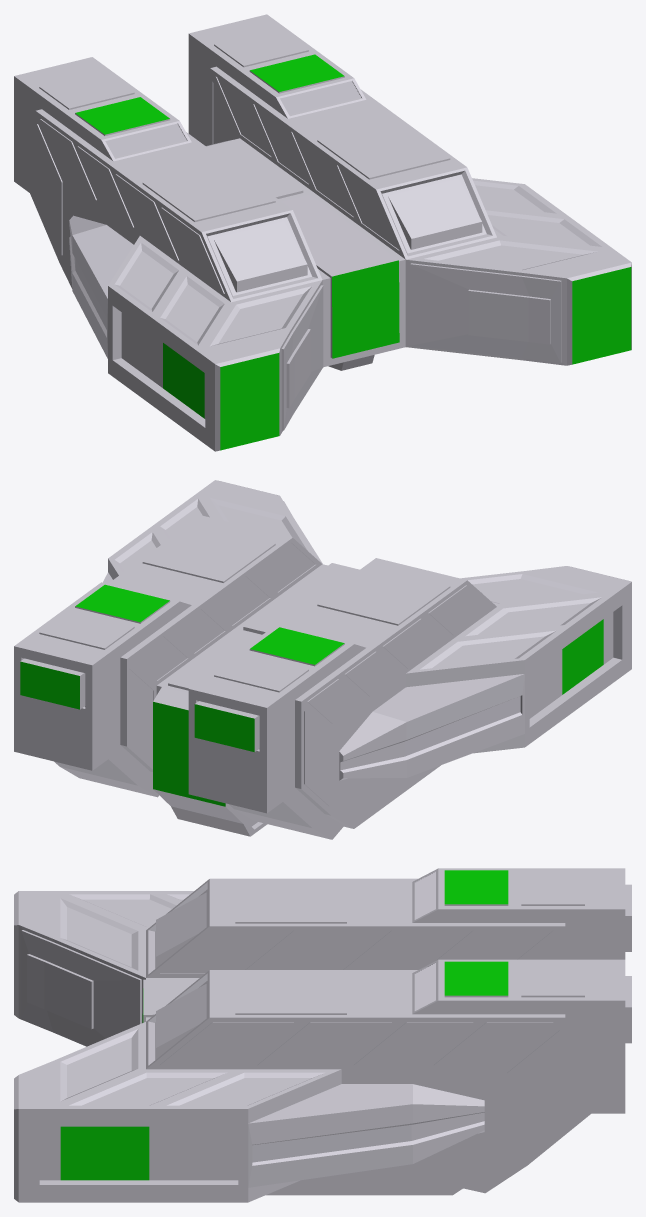
File: hull.v.fbx
3 views of the same model, one above another, from view 1: azimuth 30°, elevation 25°; view 2: azimuth 150°, elevation 25°; view 3: azimuth 270°, elevation 25° (orthographic). The views are drawn at different scales.
Parts seen in each view (by area): view 1: hull.v; view 2: hull.v; view 3: hull.v.
Boxes of the visible parts, x1=… form: hull.v: x1=14, y1=14, x2=631, y2=451; hull.v: x1=14, y1=480, x2=631, y2=839; hull.v: x1=14, y1=868, x2=631, y2=1202.
Size of the model in its own units: 5.28 by 2.49 by 6.32.
